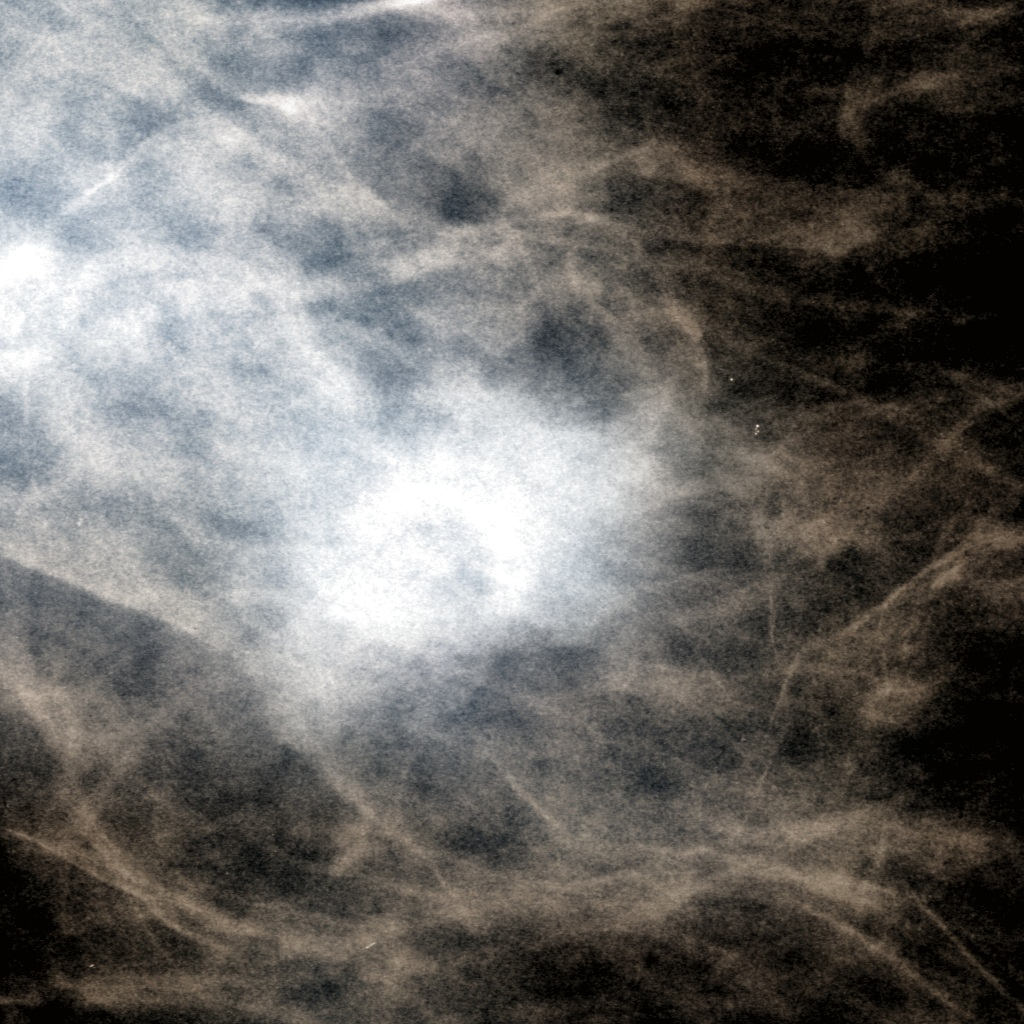tumor: (336, 361, 688, 663)
